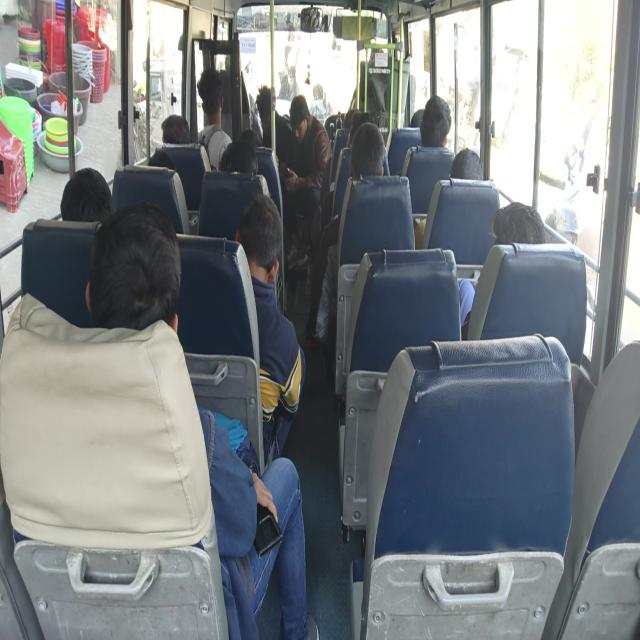person: (105, 238, 187, 350), (236, 206, 283, 282), (63, 174, 111, 226), (495, 203, 541, 255), (219, 143, 264, 184), (358, 130, 386, 179), (220, 37, 250, 78), (162, 111, 191, 153), (363, 34, 390, 75), (148, 147, 178, 182), (349, 112, 381, 144), (199, 78, 227, 114), (424, 100, 447, 142), (288, 102, 311, 140), (240, 124, 267, 156), (256, 89, 278, 126), (455, 154, 483, 182)
